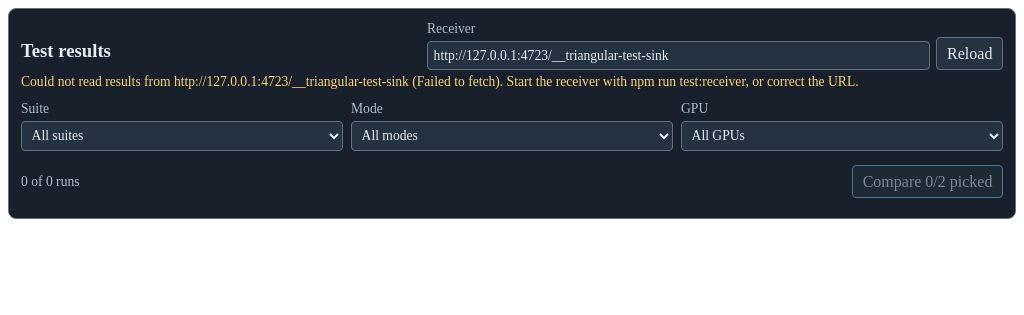
it: TestResultsComponent › says how to start the receiver when it cannot be read, and reloads from an edited URL
This screenshot has width=1024, height=315.
Replace the text in the field labelled "Receiver" with "http://127.0.0.1:4723/__triangular-test-sink/" at (679,56), box [427,41,930,70]
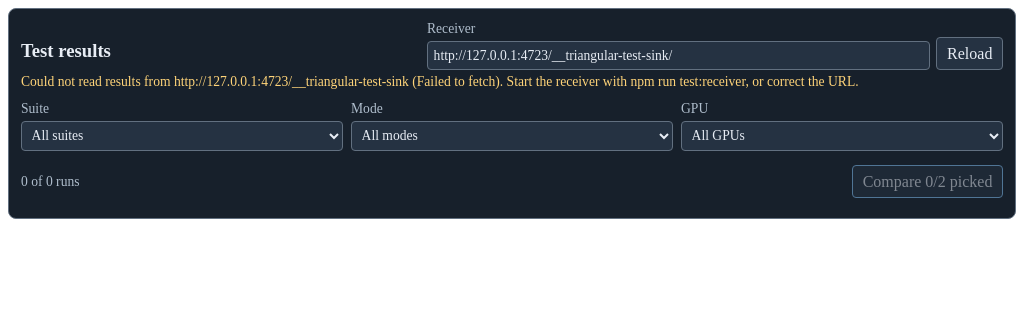
Submit the form with class "source", box [427,21,1003,70]
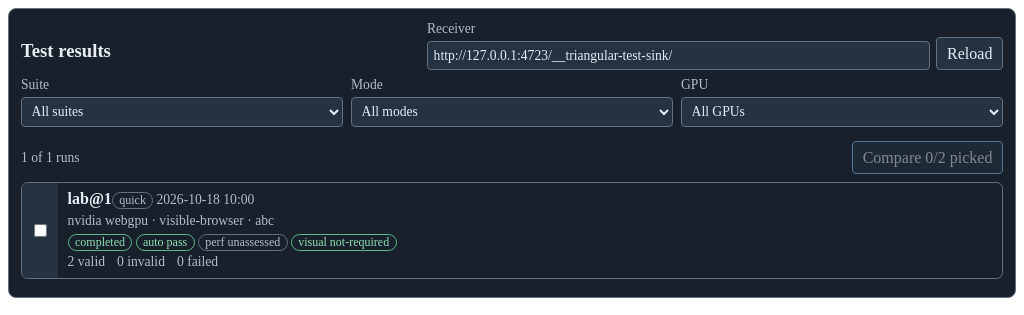
Expected: the number of list items with class "run" is 1, [21,182,1003,279]
